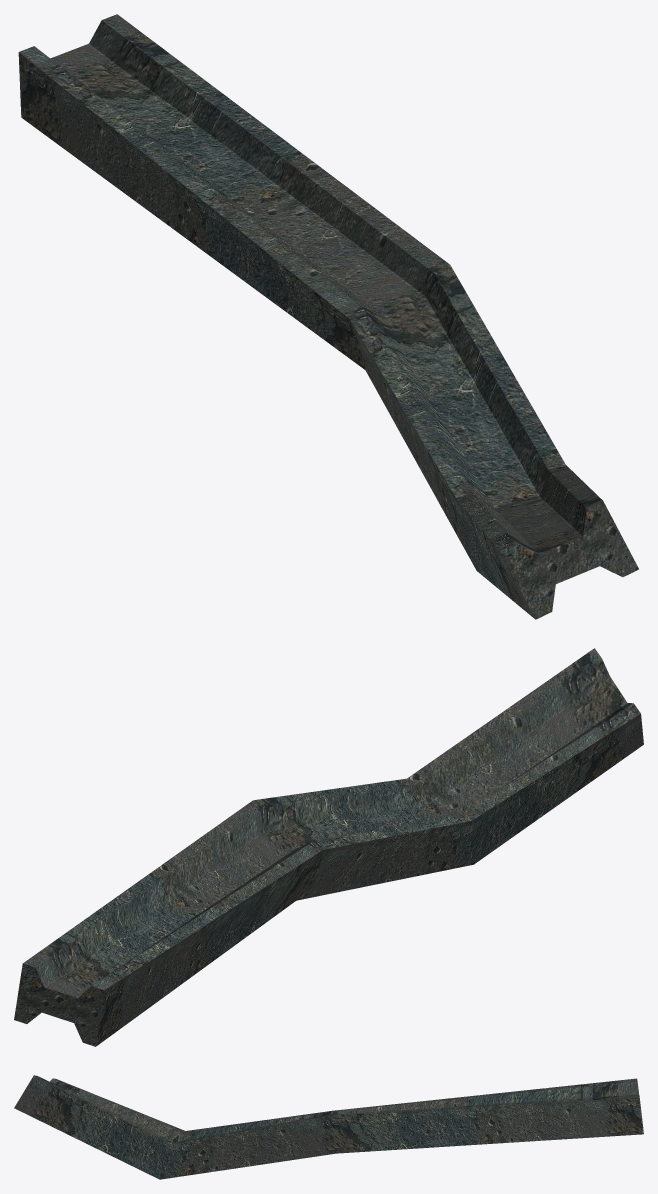
Rendered from prop_rubble_bar_big_03.glb.
3 renders of one model, top to bottom at view 1: azimuth 30°, elevation 25°; view 2: azimuth 150°, elevation 25°; view 3: azimuth 270°, elevation 25°, orthographic. The views are drawn at different scales.
Size of the model in its own units: 19.02 by 14.01 by 84.32.
Materials: 1 (1 with a texture image).
